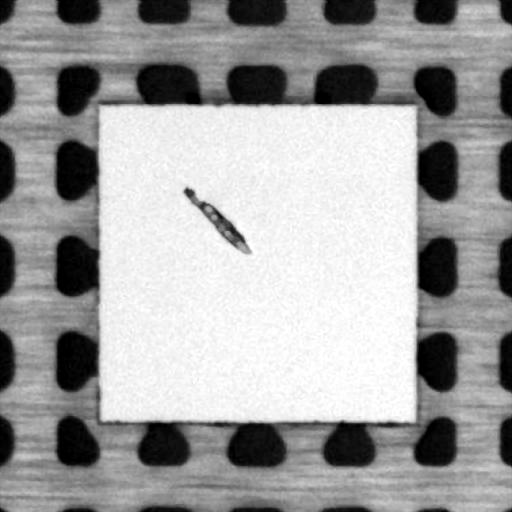DIE_INK: (180, 181, 256, 258)
